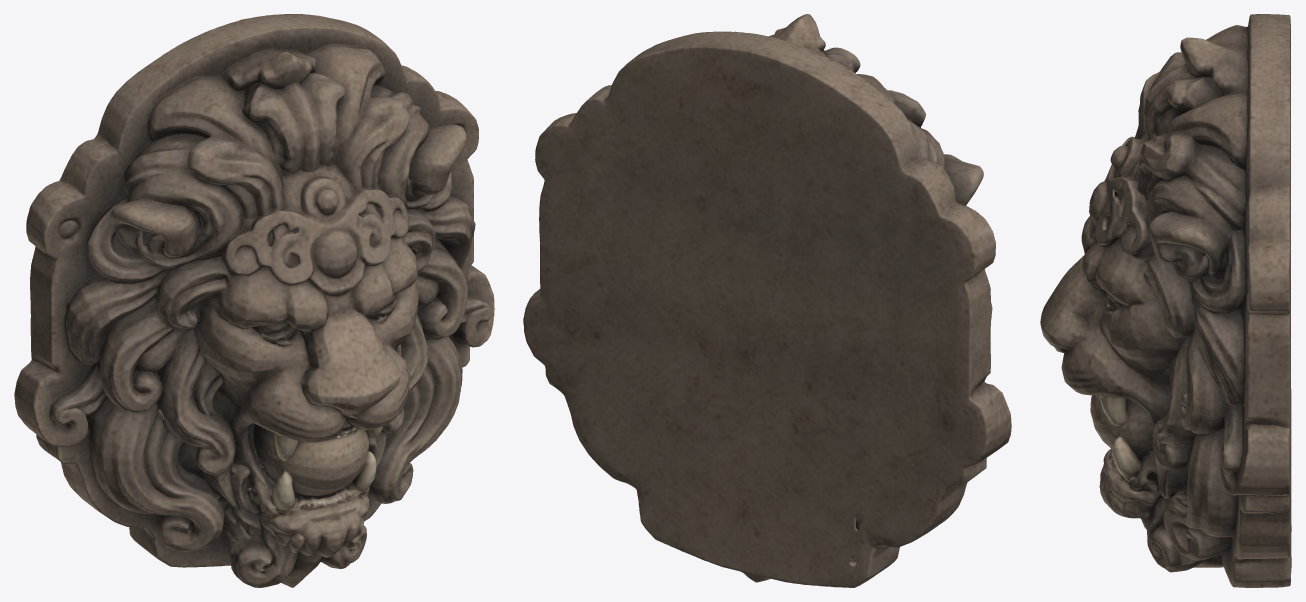
File: generation_lion_relief_2.glb
3 renders of one model, left to right at view 1: azimuth 30°, elevation 25°; view 2: azimuth 150°, elevation 25°; view 3: azimuth 270°, elevation 25°, orthographic. The views are drawn at different scales.
Parts seen in each view (by area): view 1: geometry_0; view 2: geometry_0; view 3: geometry_0.
Boxes of the visible parts, x1,y1,x2,y2 form: geometry_0: (14,14,494,587); geometry_0: (523,14,1011,587); geometry_0: (1040,14,1291,587).
Bounding box in the file's own units: 0.9047 × 1 × 0.4293.
1 material, 1 textured.
